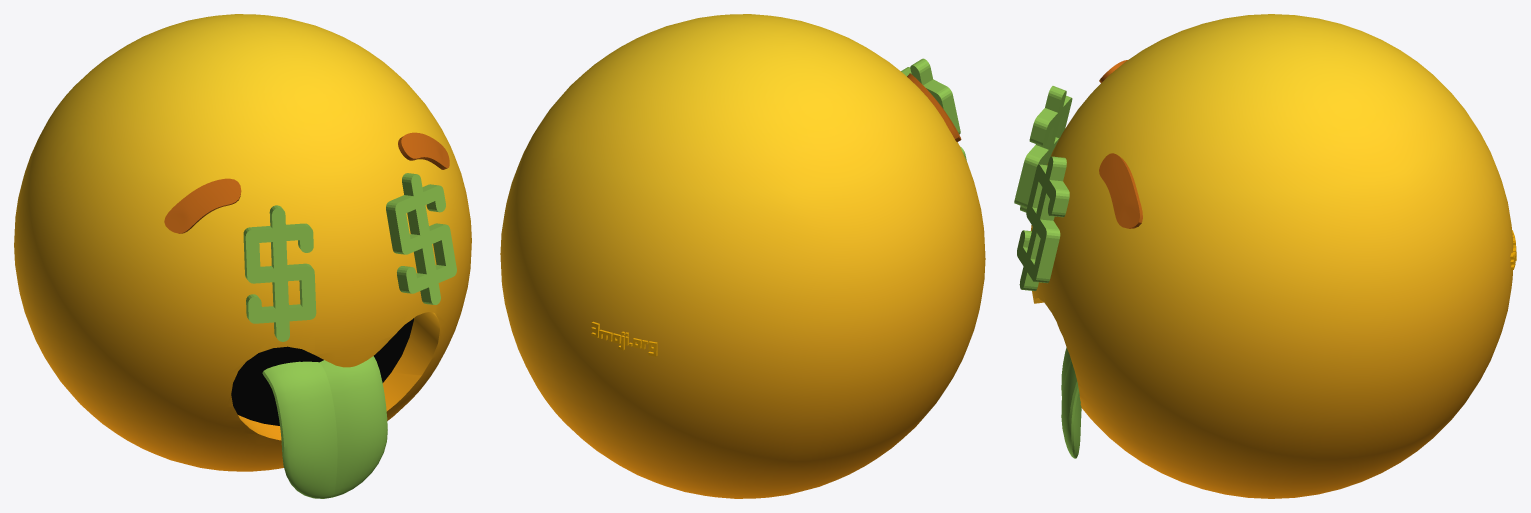
The model's file is money_mouth_face.fbx.
3 renders of one model, left to right at view 1: azimuth 30°, elevation 25°; view 2: azimuth 150°, elevation 25°; view 3: azimuth 270°, elevation 25°, orthographic. The views are drawn at different scales.
Visible parts, largest first — view 1: Money-Mouth Face; view 2: Money-Mouth Face; view 3: Money-Mouth Face.
Boxes of the visible parts, x1,y1,x2,y2 form: Money-Mouth Face: [14, 14, 471, 498]; Money-Mouth Face: [500, 14, 985, 498]; Money-Mouth Face: [1014, 14, 1516, 498].
Bounding box in the file's own units: 169 × 169 × 175.
1 material, 1 textured.
